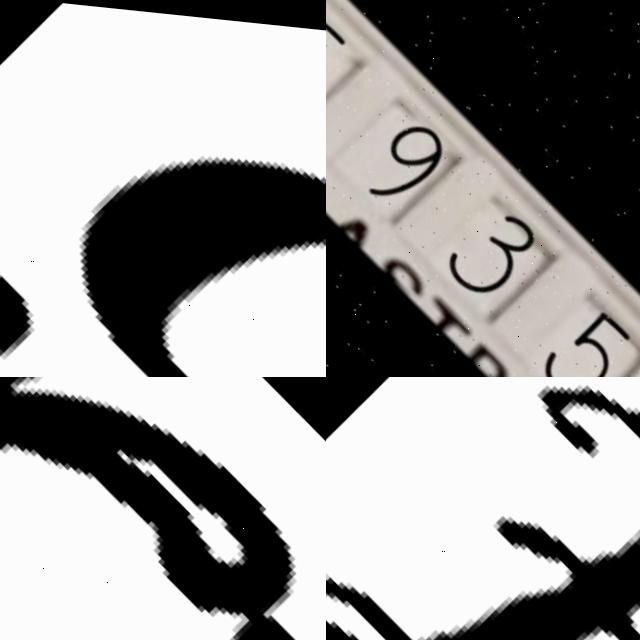3: (404, 155, 573, 329)
5: (494, 254, 640, 377), (326, 0, 384, 141)
9: (0, 0, 326, 377), (326, 66, 483, 240)
E: (361, 411, 640, 640)
O: (0, 377, 326, 640)
